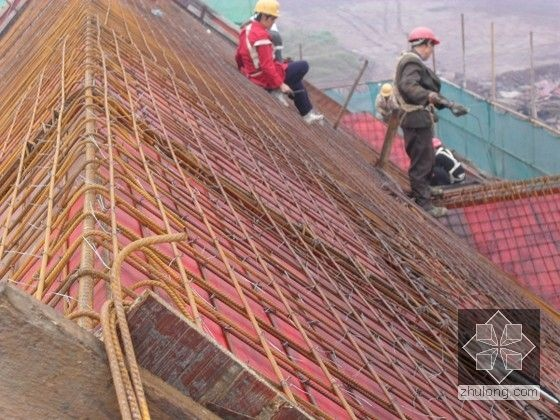red: (407, 24, 436, 59)
yellow: (250, 2, 281, 30), (378, 81, 393, 99)
